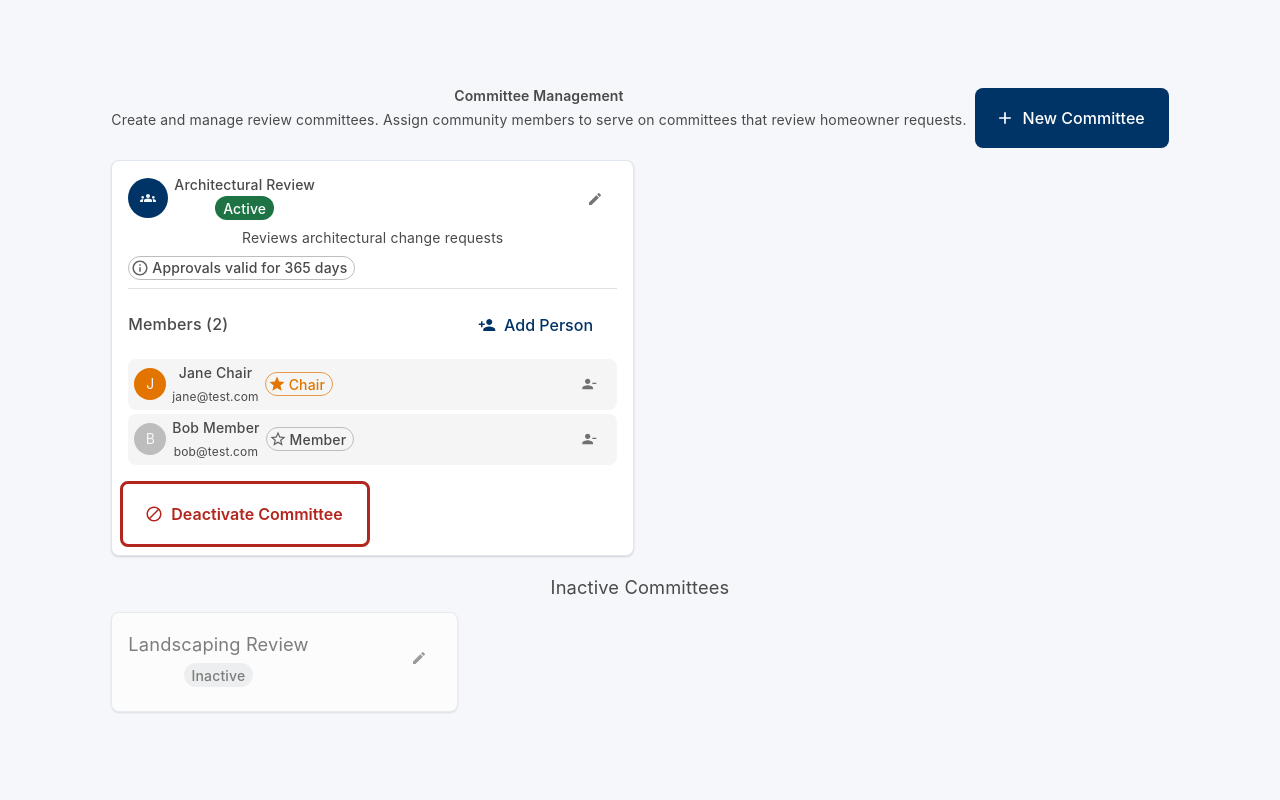
Test: CommitteeManagementPage › opens add person dialog with user search
Click the button "Add Person" at (537, 325), box [456, 295, 617, 355]
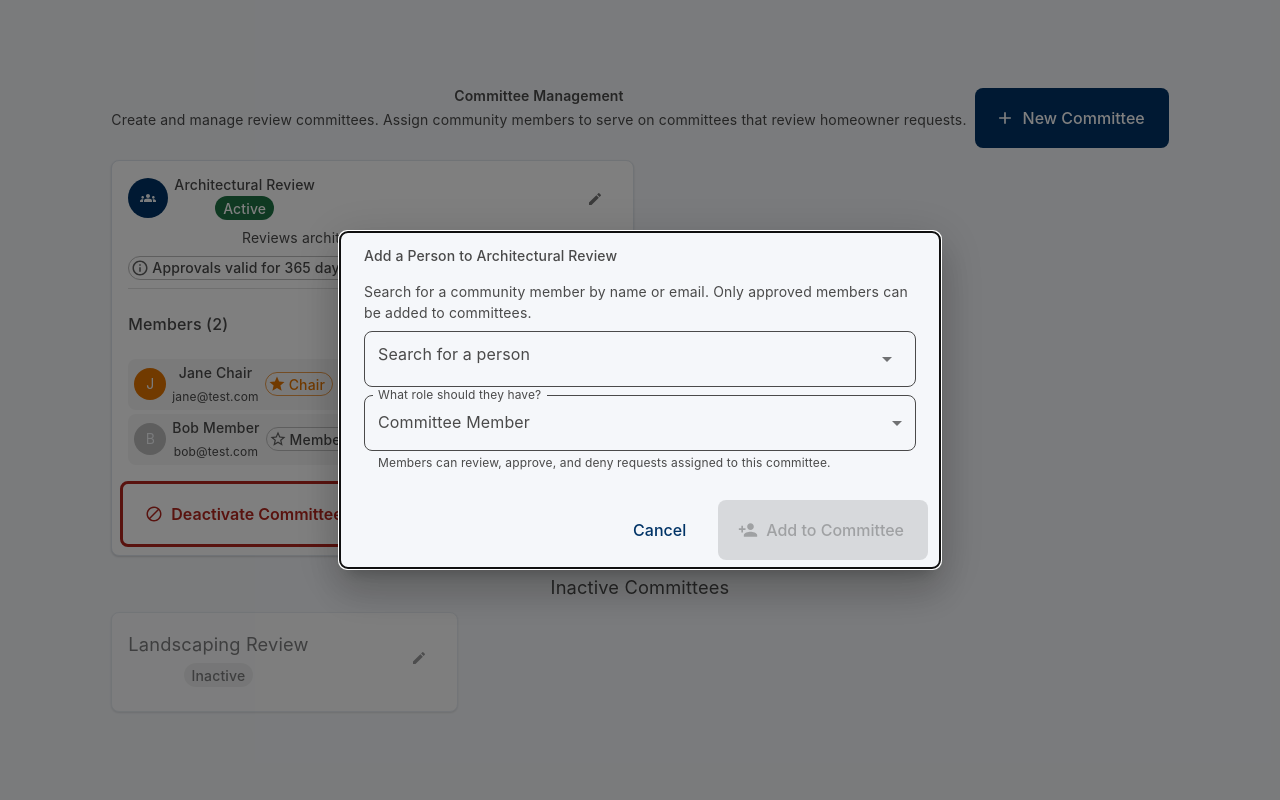
Check: the heading "Add a Person to Architectural Review" is shown, box [364, 247, 617, 264]
Check: the text "Search for a community member" is shown, box [364, 283, 908, 321]
Check: the dropdown labelled "Search for a person" is shown, box [373, 340, 877, 378]
